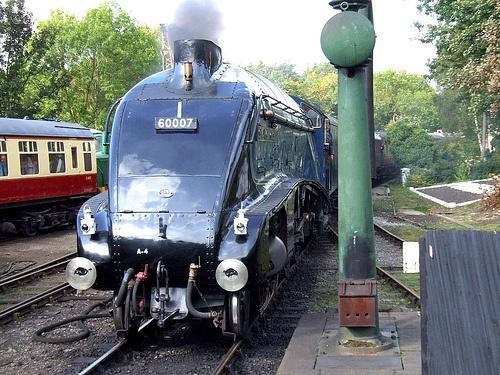train: (70, 37, 396, 343), (1, 120, 99, 241)
